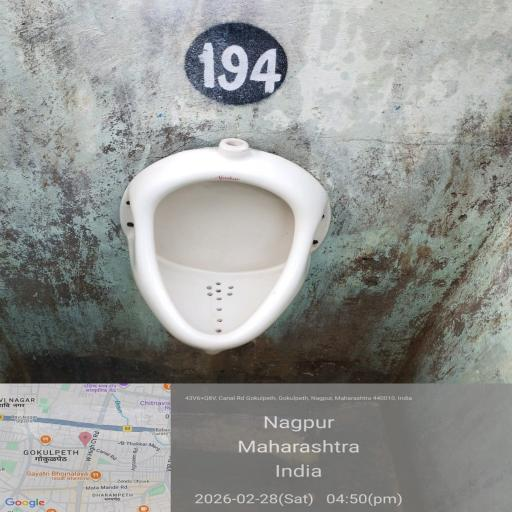clean_urinal: (114, 101, 336, 359)
partial_dirty_floor: (11, 326, 464, 512), (12, 7, 512, 171)
